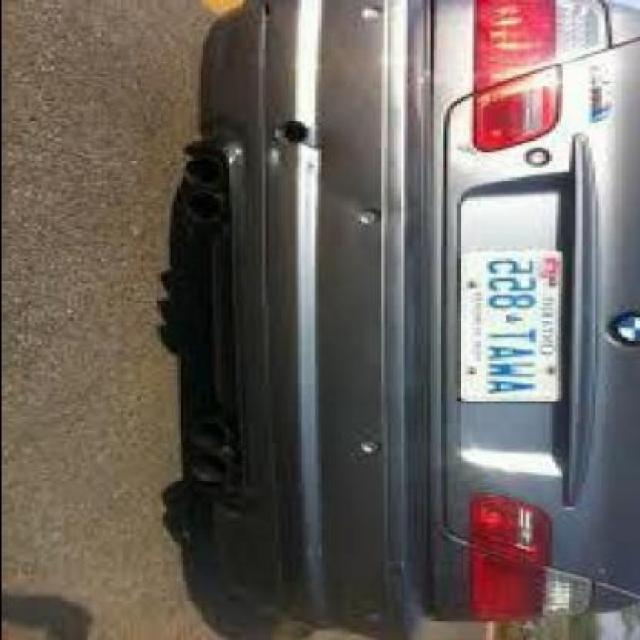damage: (271, 105, 330, 157)
